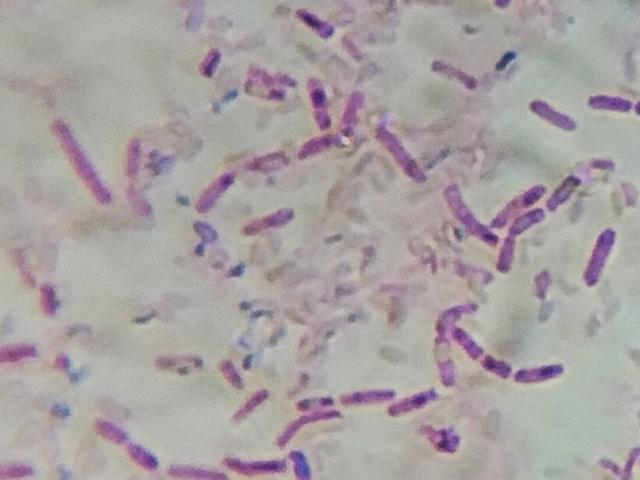E. coli: (55, 115, 114, 210), (446, 184, 498, 246), (376, 125, 420, 182), (276, 415, 349, 447), (586, 225, 621, 286), (494, 177, 544, 217), (589, 85, 640, 123), (388, 381, 440, 418), (433, 55, 482, 91), (529, 94, 575, 132), (432, 337, 464, 391), (294, 4, 338, 43), (200, 164, 233, 215), (244, 208, 296, 240), (224, 452, 288, 477), (304, 78, 336, 122), (91, 418, 132, 450), (247, 146, 289, 177), (194, 46, 233, 79), (344, 84, 366, 140), (122, 438, 159, 471), (339, 385, 397, 405), (433, 290, 466, 325), (2, 337, 40, 367), (522, 365, 567, 390), (303, 132, 344, 159), (38, 277, 65, 317), (457, 325, 490, 357), (233, 390, 263, 424), (482, 355, 518, 383), (499, 237, 522, 280), (216, 359, 246, 391), (166, 464, 208, 480), (299, 396, 332, 413)
